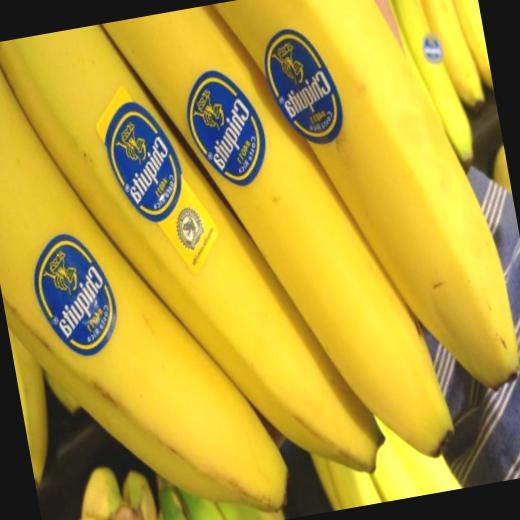Banana: (0, 0, 520, 520), (215, 0, 520, 428)
